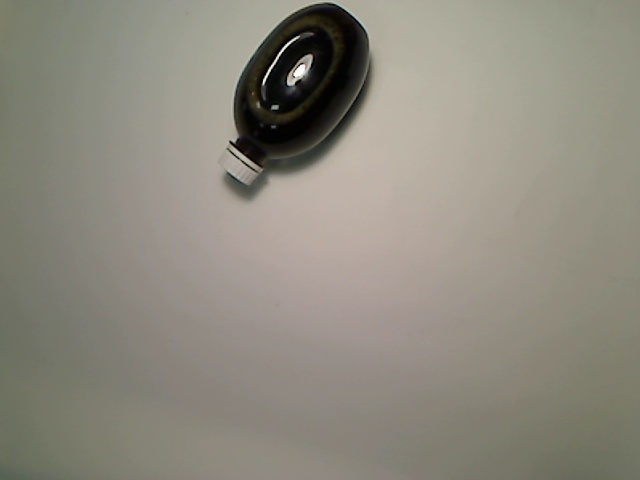plast_bottle: (217, 1, 374, 190)
